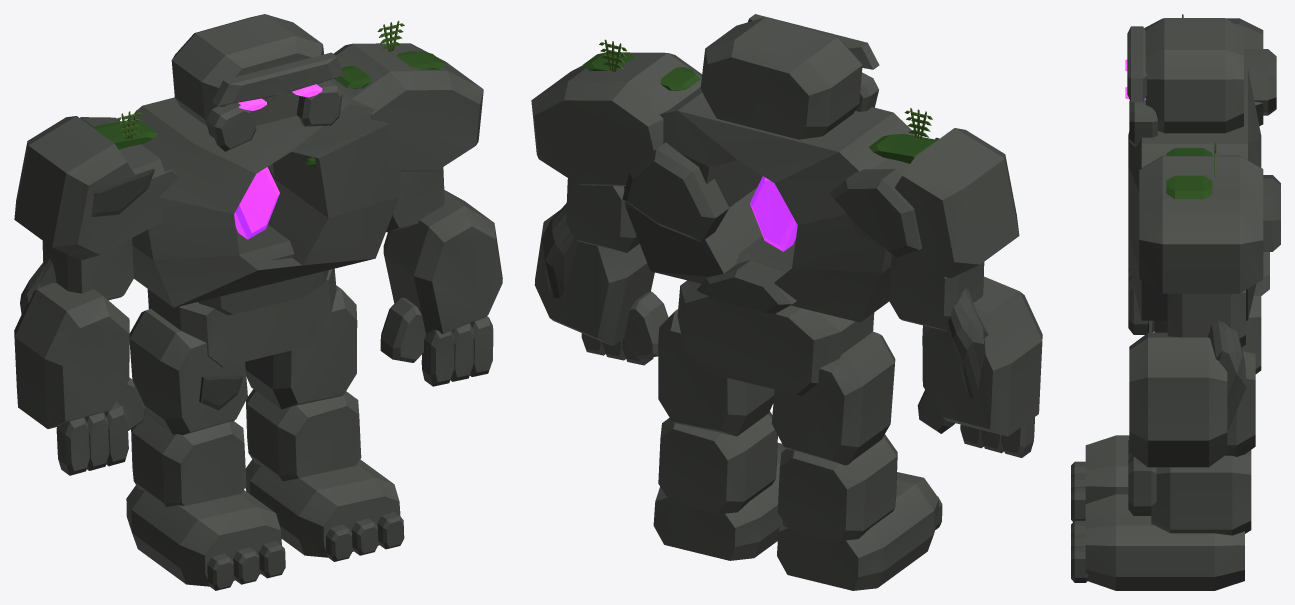
Rendered from MOSS_HEX_GOLEM_Parts.glb.
3 views of the same model, side by side, from view 1: azimuth 30°, elevation 25°; view 2: azimuth 150°, elevation 25°; view 3: azimuth 270°, elevation 25° (orthographic). The views are drawn at different scales.
Parts seen in each view (by area): view 1: Fracture_Torso, Fracture_Arm.R, Fracture_Arm.L, Fracture_Leg.R, Fracture_Leg.L, Fracture_Head; view 2: Fracture_Torso, Fracture_Arm.R, Fracture_Arm.L, Fracture_Leg.R, Fracture_Leg.L, Fracture_Head; view 3: Fracture_Arm.L, Fracture_Leg.L, Fracture_Head, Fracture_Torso, Fracture_Leg.R, Fracture_Arm.R.
Part boxes in pixels (x1=…): Fracture_Torso: x1=127, y1=93, x2=401, y2=367; Fracture_Arm.R: x1=14, y1=110, x2=179, y2=475; Fracture_Arm.L: x1=329, y1=21, x2=502, y2=386; Fracture_Leg.R: x1=126, y1=308, x2=285, y2=590; Fracture_Leg.L: x1=245, y1=285, x2=404, y2=561; Fracture_Head: x1=171, y1=14, x2=343, y2=151; Fracture_Torso: x1=622, y1=87, x2=917, y2=395; Fracture_Arm.R: x1=829, y1=108, x2=1042, y2=457; Fracture_Arm.L: x1=531, y1=39, x2=701, y2=365; Fracture_Leg.R: x1=771, y1=331, x2=942, y2=590; Fracture_Leg.L: x1=653, y1=309, x2=786, y2=560; Fracture_Head: x1=700, y1=14, x2=879, y2=139; Fracture_Arm.L: x1=1128, y1=142, x2=1263, y2=515; Fracture_Leg.L: x1=1071, y1=351, x2=1255, y2=590; Fracture_Head: x1=1125, y1=18, x2=1243, y2=146; Fracture_Torso: x1=1128, y1=68, x2=1280, y2=373; Fracture_Leg.R: x1=1071, y1=320, x2=1152, y2=521; Fracture_Arm.R: x1=1128, y1=14, x2=1276, y2=334.
Size of the model in its own units: 2.47 by 2.58 by 0.9625.
